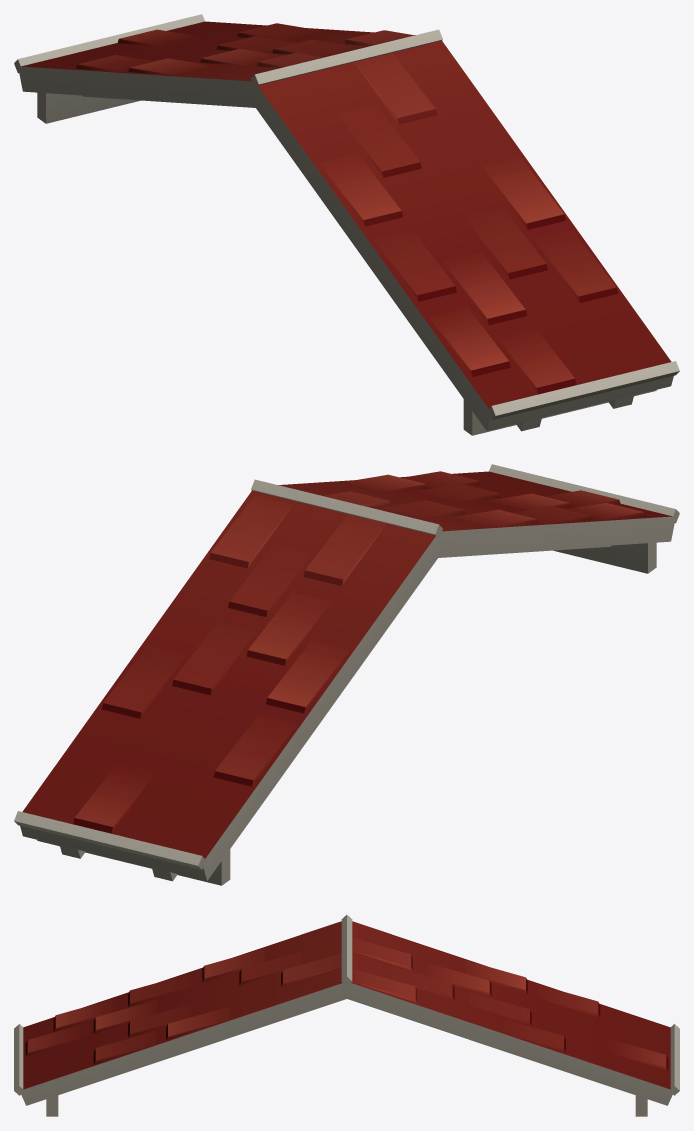
The model's file is TSP_House_Roof_02A_1.fbx.
3 renders of one model, top to bottom at view 1: azimuth 30°, elevation 25°; view 2: azimuth 150°, elevation 25°; view 3: azimuth 270°, elevation 25°, orthographic. The views are drawn at different scales.
Visible parts, largest first — view 1: TSP_House_Roof_02A_1; view 2: TSP_House_Roof_02A_1; view 3: TSP_House_Roof_02A_1.
Boxes of the visible parts, bbox=[...] form: TSP_House_Roof_02A_1: bbox=[14, 14, 679, 435]; TSP_House_Roof_02A_1: bbox=[14, 464, 679, 885]; TSP_House_Roof_02A_1: bbox=[14, 915, 679, 1116].
Size of the model in its own units: 2 by 2.1 by 9.05.
